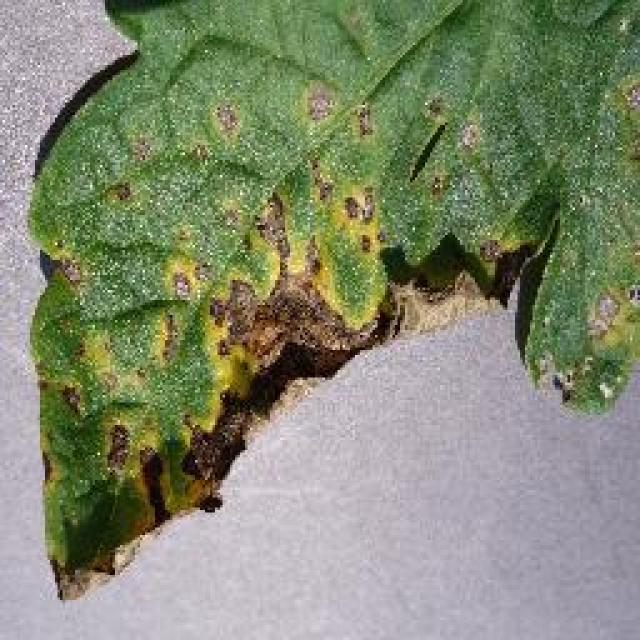Tomato___Septoria_leaf_spot: (30, 0, 638, 588)
